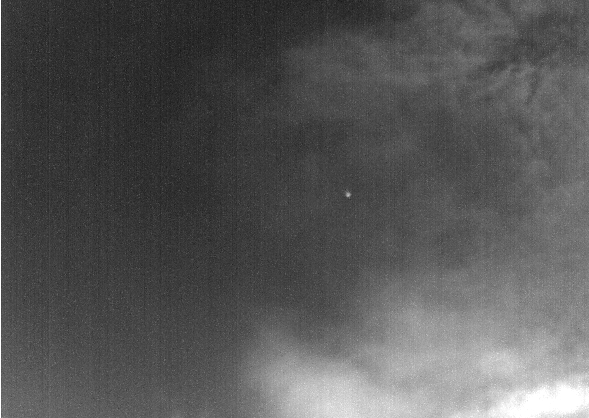dim target: (344, 191, 352, 198)
